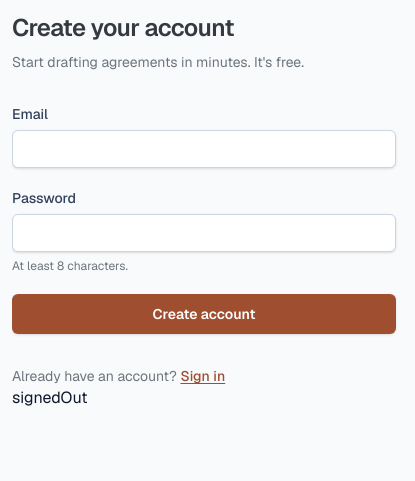
it: AuthForm › sign up › explains a taken email
Expected: the text with test id "auth" reads "signedOut", [12,387,88,408]
In the field labelled "Email": (204, 149) [12,130,396,168], type "jane@acme.com"
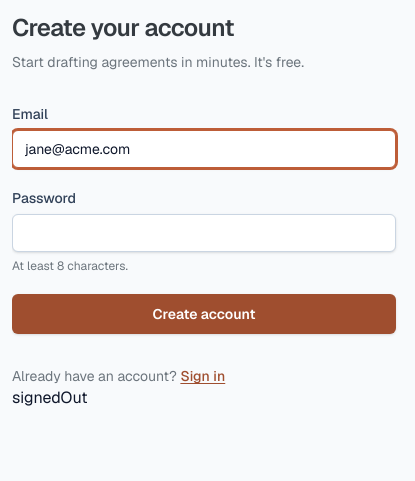
In the password field labelled "Password At least 8 characters.": (204, 233) [12,214,396,252], type "pa55word!"
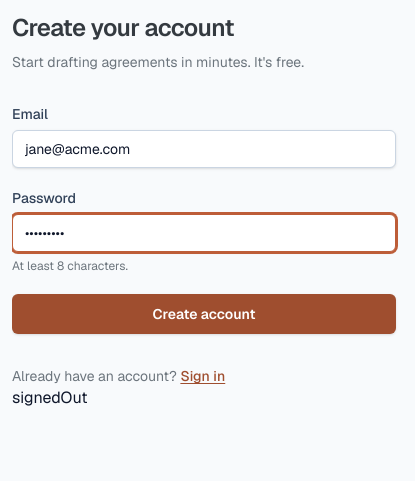
Click the button "Create account": (204, 314) [12,294,396,334]
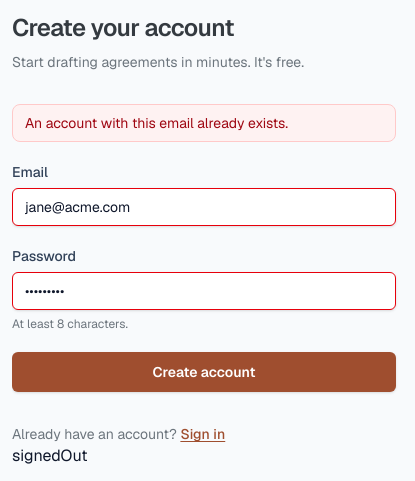
Expected: the message reads "An account with this email already exists.", [25,114,288,132]
